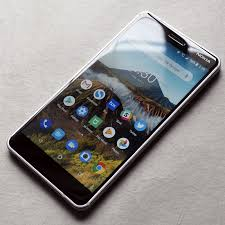nokia: (5, 10, 219, 218)
